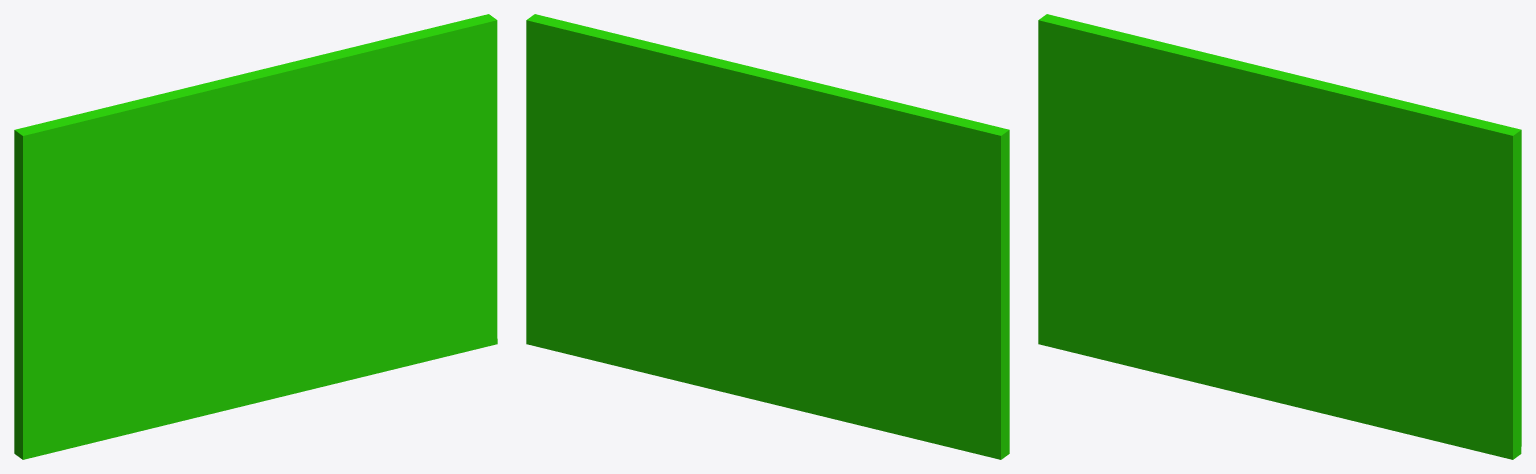
Rendered from BH04B_Wall_Int_14.fbx.
The picture shows the model from 3 angles, left to right: view 1: azimuth 30°, elevation 25°; view 2: azimuth 150°, elevation 25°; view 3: azimuth 330°, elevation 25°; orthographic projection.
Visible parts, largest first — view 1: BH04B_Wall_Int_14; view 2: BH04B_Wall_Int_14; view 3: BH04B_Wall_Int_14.
Boxes of the visible parts, x1,y1,x2,y2 form: BH04B_Wall_Int_14: [14, 14, 497, 459]; BH04B_Wall_Int_14: [526, 14, 1009, 459]; BH04B_Wall_Int_14: [1038, 14, 1521, 459].
Size of the model in its own units: 460 by 300 by 14.39.
